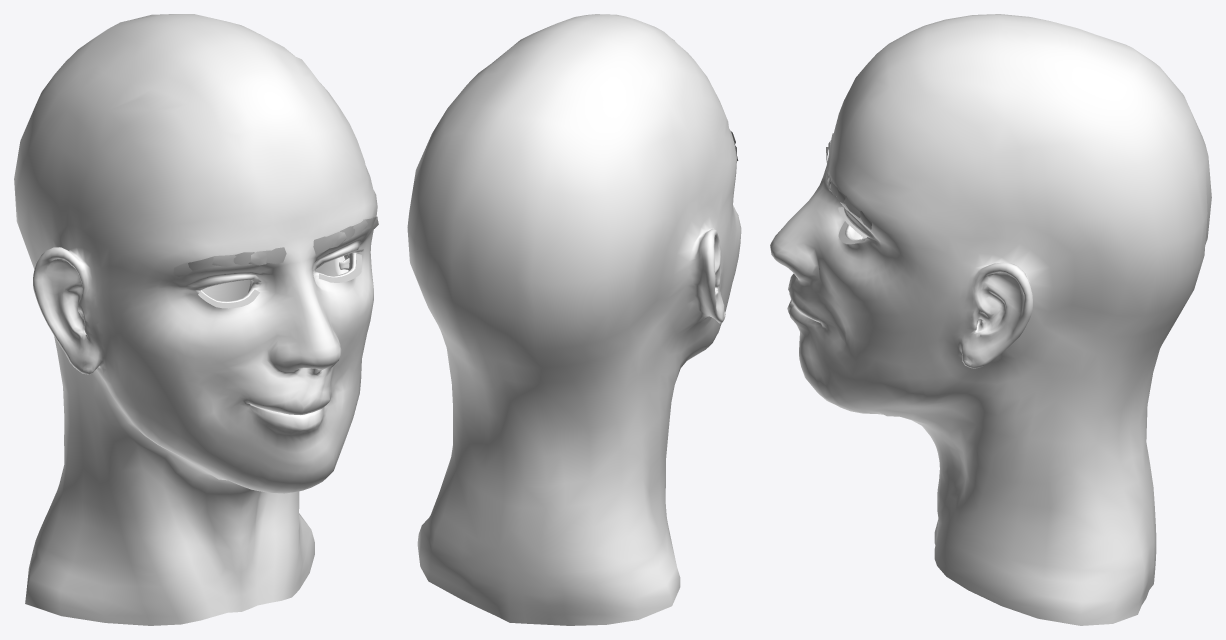
File: mouthRight.obj
3 renders of one model, left to right at view 1: azimuth 30°, elevation 25°; view 2: azimuth 150°, elevation 25°; view 3: azimuth 270°, elevation 25°, orthographic. The views are drawn at different scales.
Parts seen in each view (by area): view 1: FaceMesh_Plane.003; view 2: FaceMesh_Plane.003; view 3: FaceMesh_Plane.003.
Boxes of the visible parts, <box> form: FaceMesh_Plane.003: <box>14,14,378,625</box>; FaceMesh_Plane.003: <box>407,14,741,625</box>; FaceMesh_Plane.003: <box>770,14,1211,625</box>.
Size of the model in its own units: 1.54 by 2.71 by 1.94.
5 materials, 1 textured.
